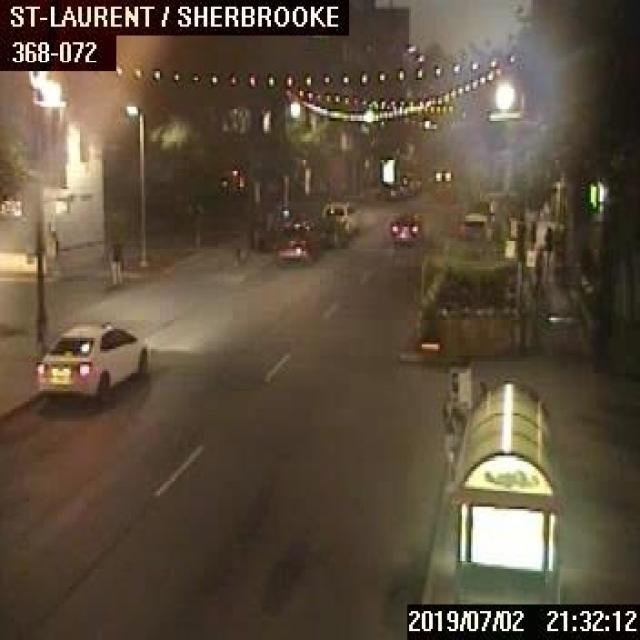pedestrian: (109, 236, 122, 284), (527, 217, 536, 249), (543, 222, 551, 251)
vehicle: (33, 318, 147, 398), (273, 213, 334, 260), (320, 200, 361, 235), (389, 213, 421, 244), (431, 165, 451, 182)
